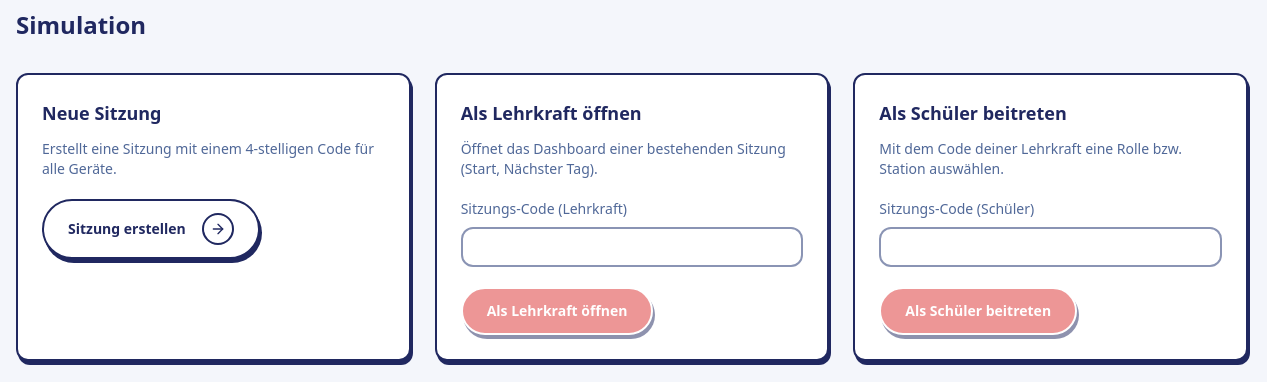
Test: SimulationPage › shows an error when creating fails
The image size is (1267, 382).
Step 1. Click the button "Sitzung erstellen" → (151, 229), box [42, 199, 260, 259]
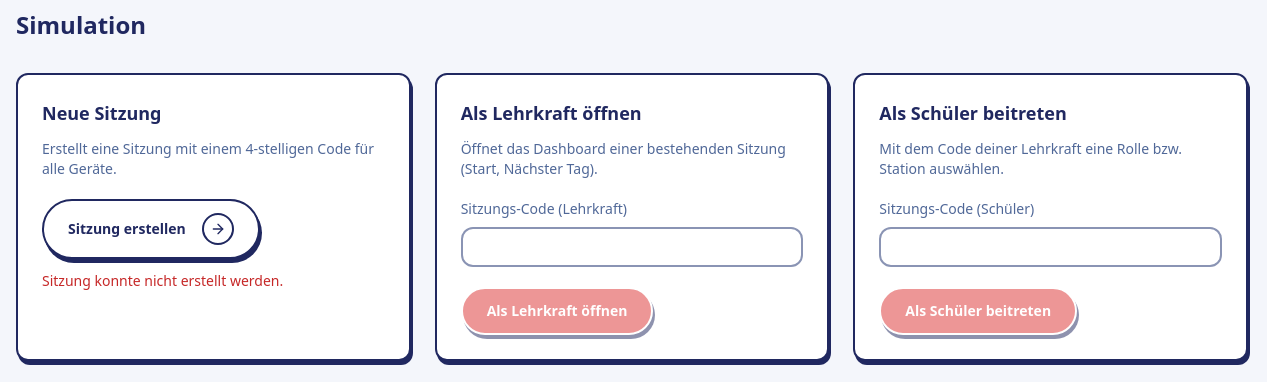
Now the text "Sitzung konnte nicht erstellt werden." is shown, box [42, 271, 283, 290]
